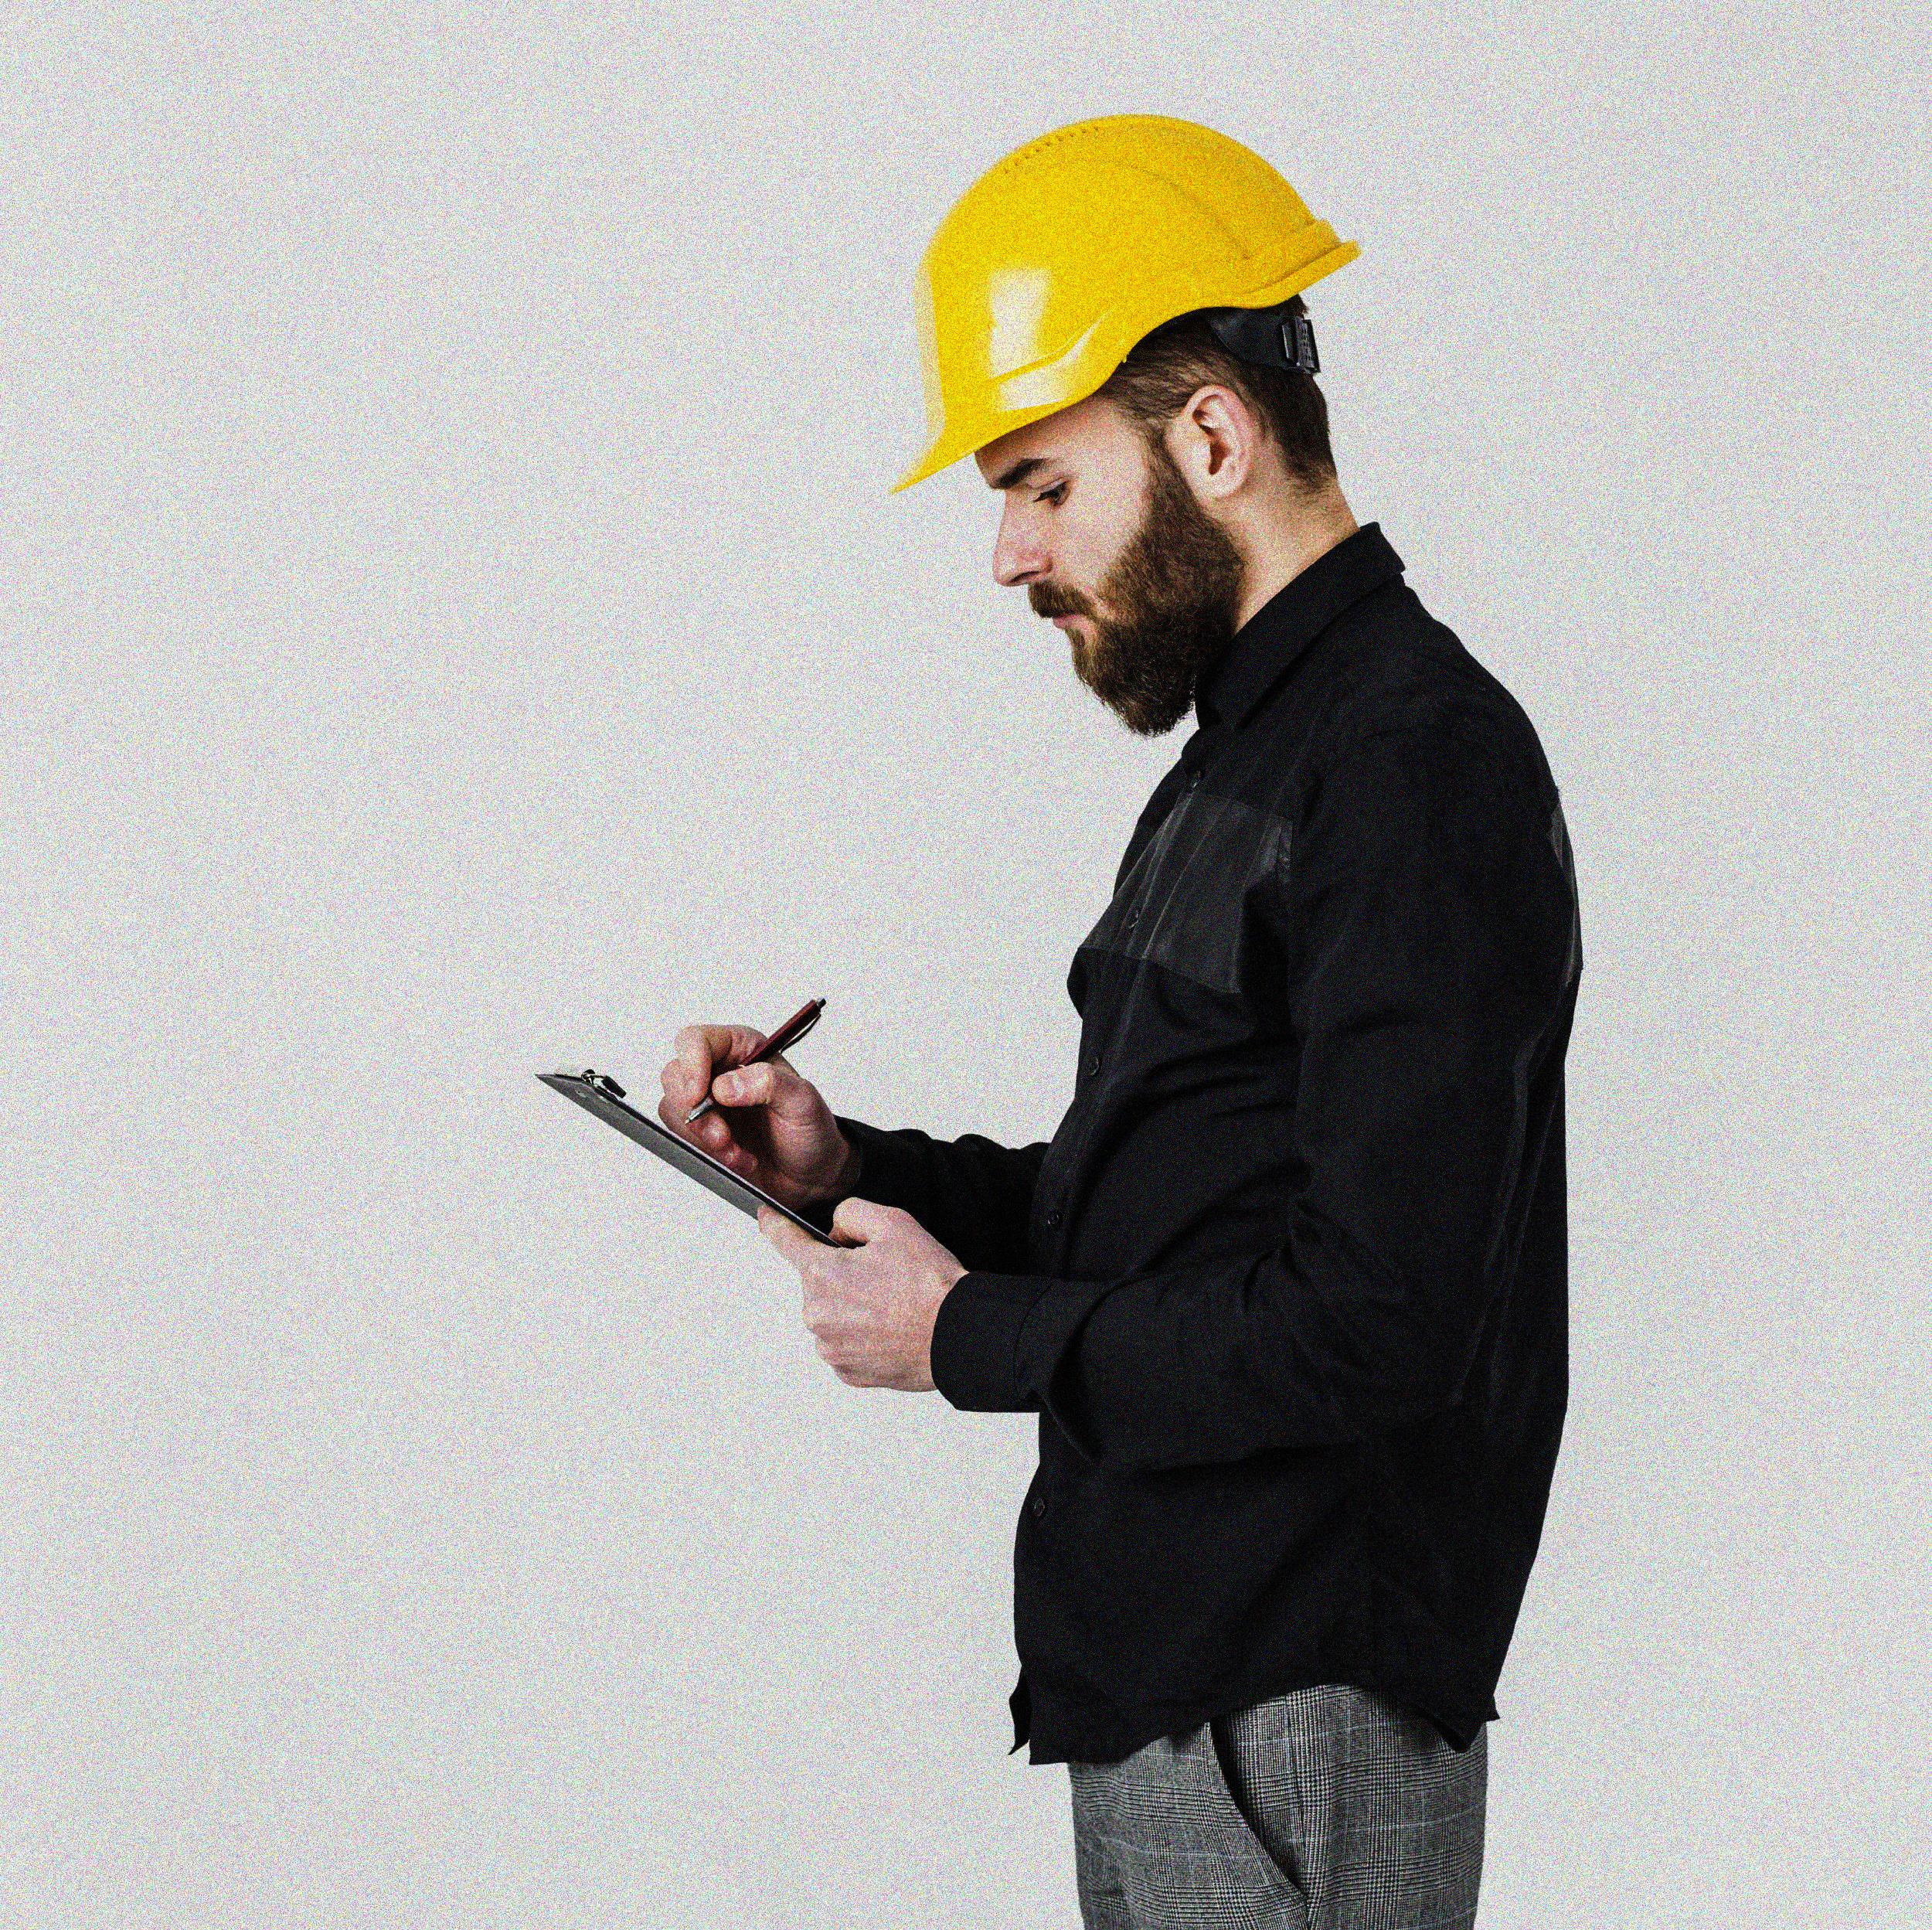helmet: (880, 104, 1366, 725)
